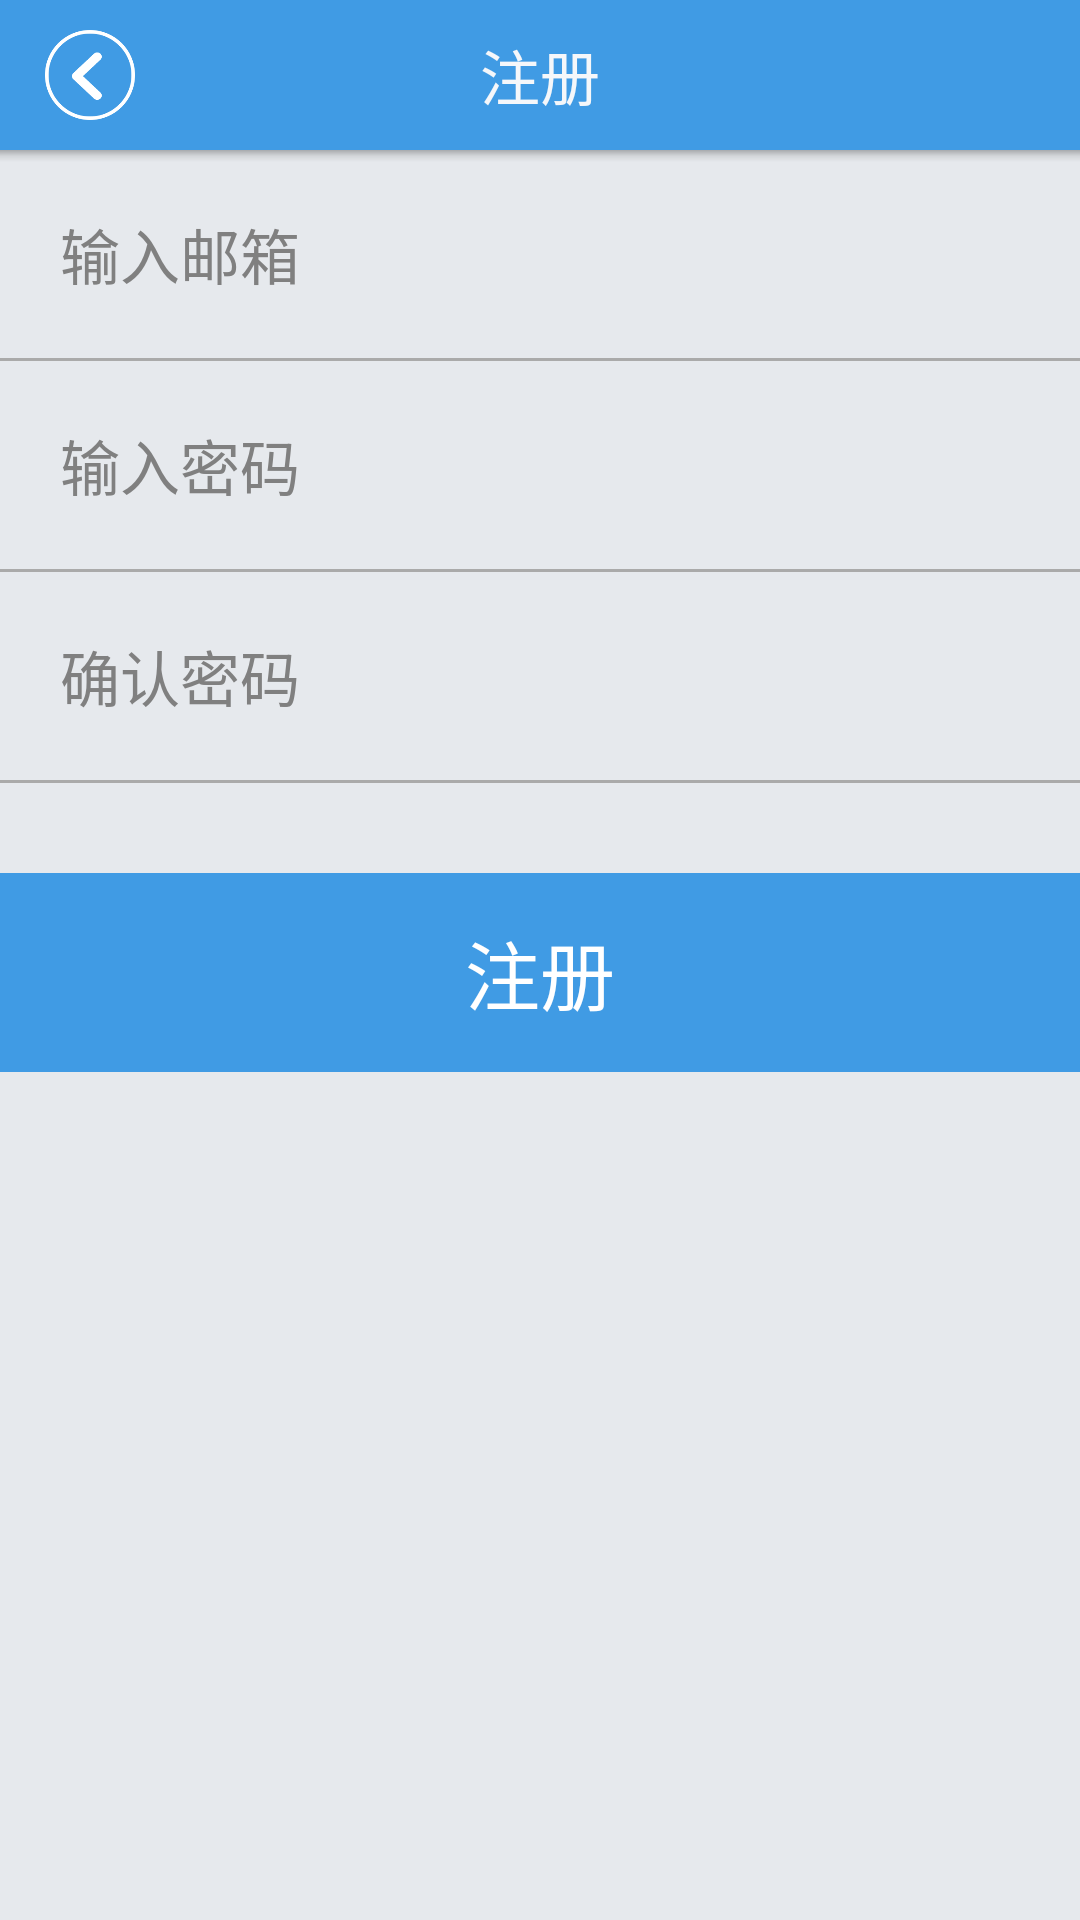

Icon bounding boxes for this 1080w x 1920h phone screenshot, format (x1, y1, x2, y2):
gobackbtn: (45, 30, 135, 120)
